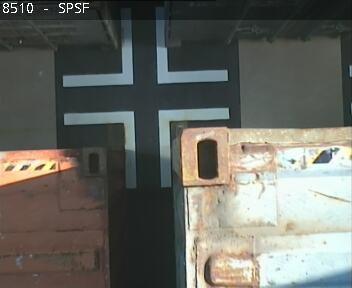groundmarker_1: (62, 6, 229, 89), (62, 105, 229, 187)
